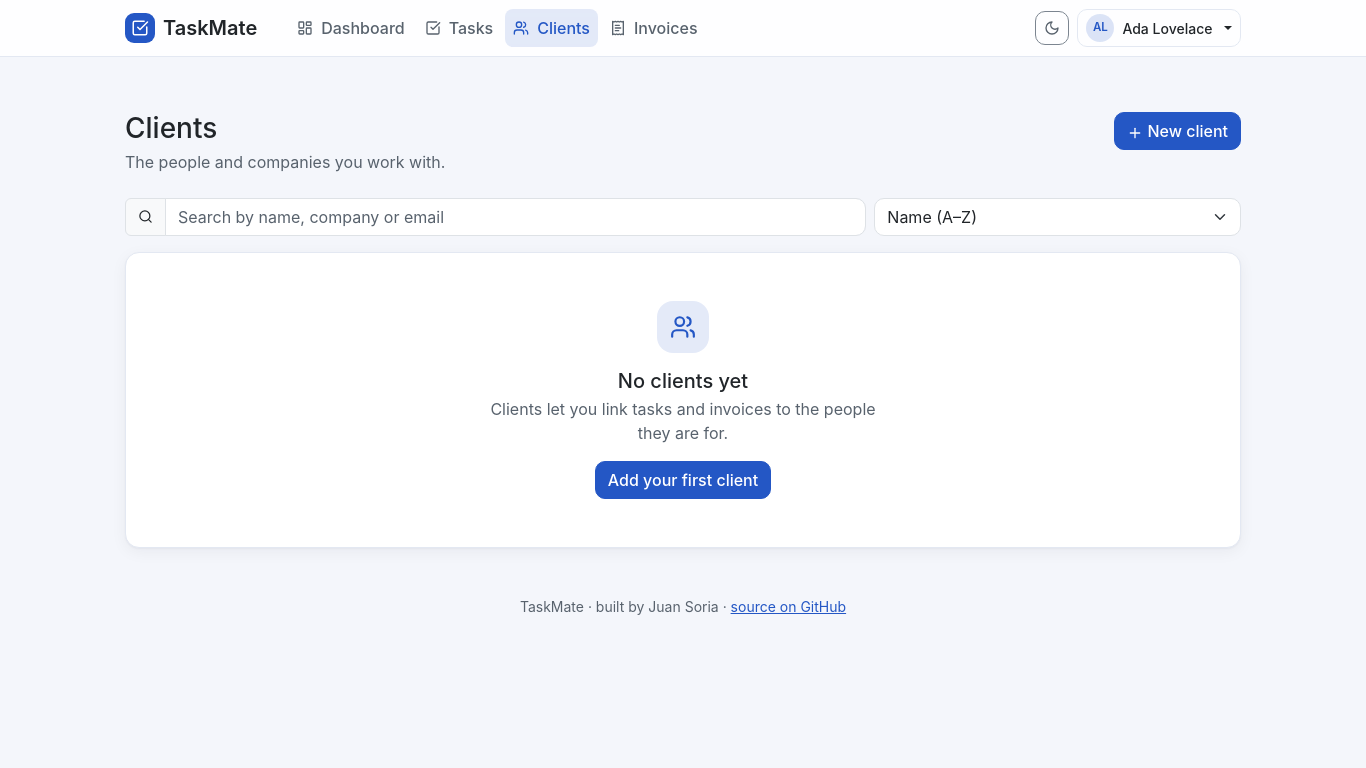
Test: Clients page › invites the first client, via the empty state
Click the button "Add your first client": click(683, 480) [595,461,771,499]
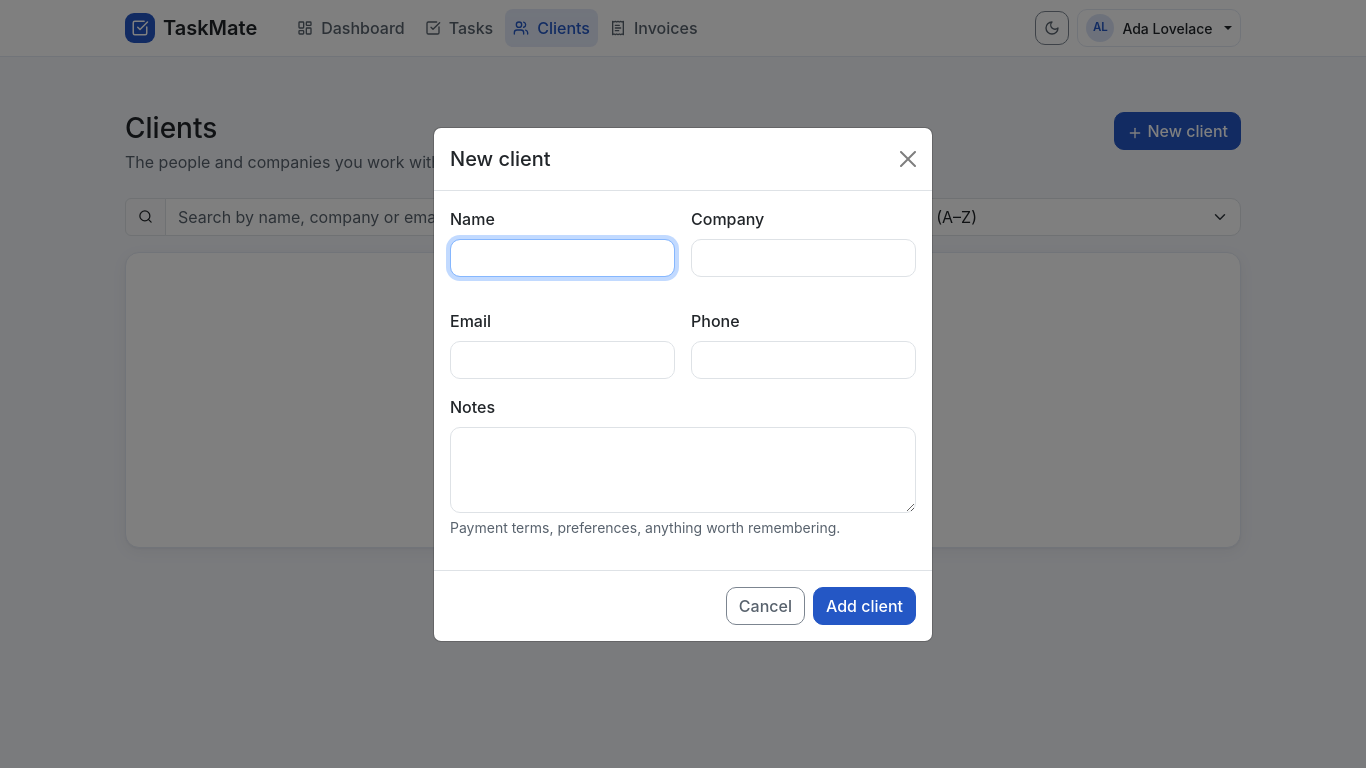
Expected: the dialog "New client" is shown, [433,126,933,642]
